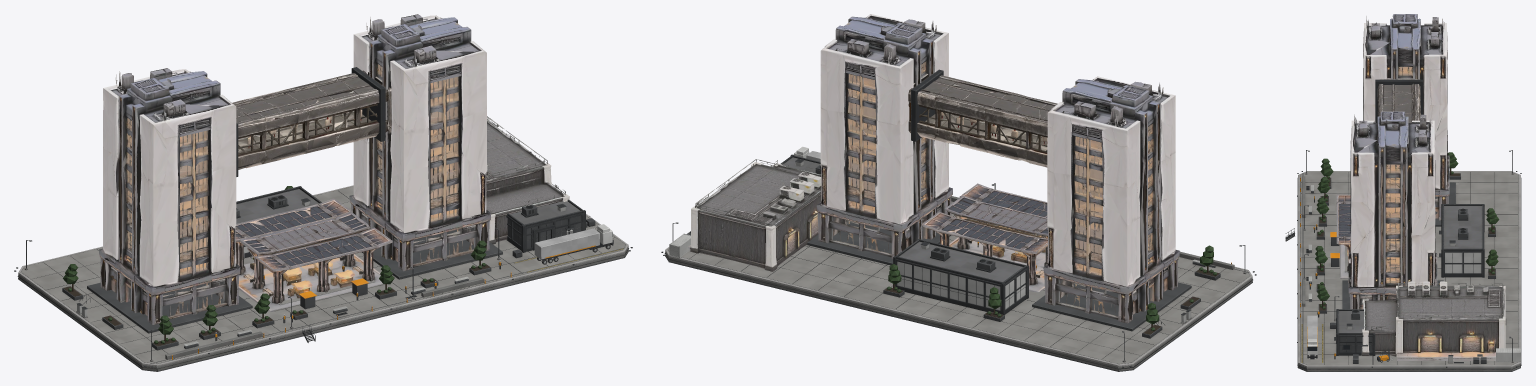
The model's file is trade_center.glb.
The picture shows the model from 3 angles, left to right: view 1: azimuth 30°, elevation 25°; view 2: azimuth 150°, elevation 25°; view 3: azimuth 270°, elevation 25°; orthographic projection. The views are drawn at different scales.
Parts seen in each view (by area): view 1: parts_colony-officeTower, hull, parts_colony-marketArcade, parts_colony-skyBridge, parts_colony-loadingHall, parts_yard-truck; view 2: parts_colony-officeTower, hull, parts_colony-loadingHall, parts_colony-skyBridge, parts_colony-marketArcade; view 3: hull, parts_colony-officeTower, parts_colony-loadingHall, parts_colony-skyBridge, parts_colony-marketArcade, parts_yard-truck, parts_container.
Boxes of the visible parts, bbox=[...] form: parts_colony-officeTower: bbox=[99, 14, 490, 324]; hull: bbox=[14, 67, 632, 371]; parts_colony-marketArcade: bbox=[235, 198, 392, 311]; parts_colony-skyBridge: bbox=[232, 70, 391, 169]; parts_colony-loadingHall: bbox=[486, 116, 569, 244]; parts_yard-truck: bbox=[534, 224, 613, 264]; parts_colony-officeTower: bbox=[816, 14, 1179, 323]; hull: bbox=[661, 69, 1256, 371]; parts_colony-loadingHall: bbox=[688, 159, 821, 271]; parts_colony-skyBridge: bbox=[908, 73, 1057, 167]; parts_colony-marketArcade: bbox=[922, 183, 1047, 292]; hull: bbox=[1285, 79, 1521, 371]; parts_colony-officeTower: bbox=[1348, 14, 1449, 309]; parts_colony-loadingHall: bbox=[1362, 281, 1506, 360]; parts_colony-skyBridge: bbox=[1377, 78, 1420, 122]; parts_colony-marketArcade: bbox=[1336, 194, 1350, 278]; parts_yard-truck: bbox=[1307, 315, 1317, 359]; parts_container: bbox=[1496, 348, 1520, 362].
Bounding box in the file's own units: 112 × 50.01 × 57.29.
Materials: 10 (10 with a texture image).
